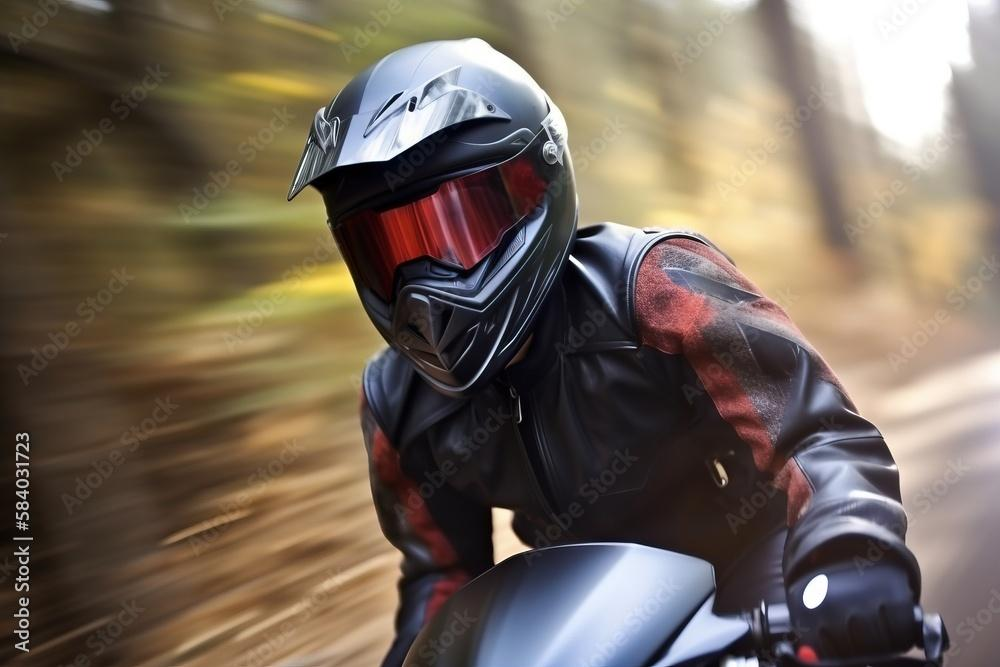helmet: (284, 35, 581, 403)
